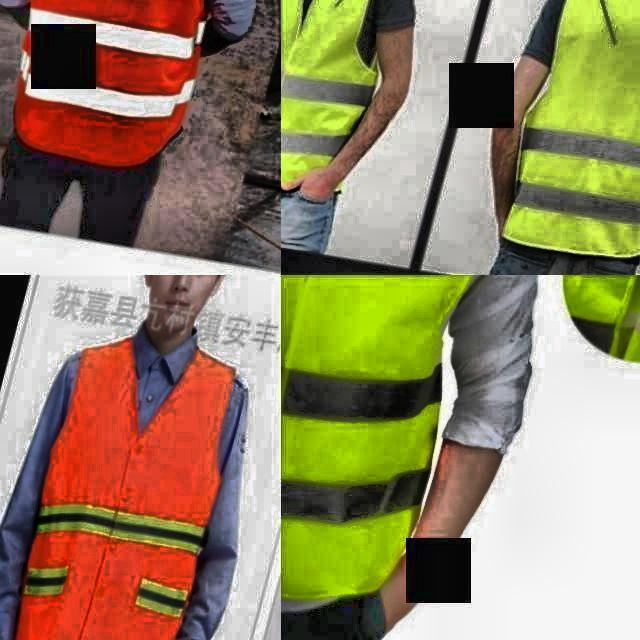safety_jacket: (0, 304, 264, 640), (281, 275, 527, 618), (0, 0, 246, 179), (510, 0, 640, 275), (281, 0, 405, 208)
